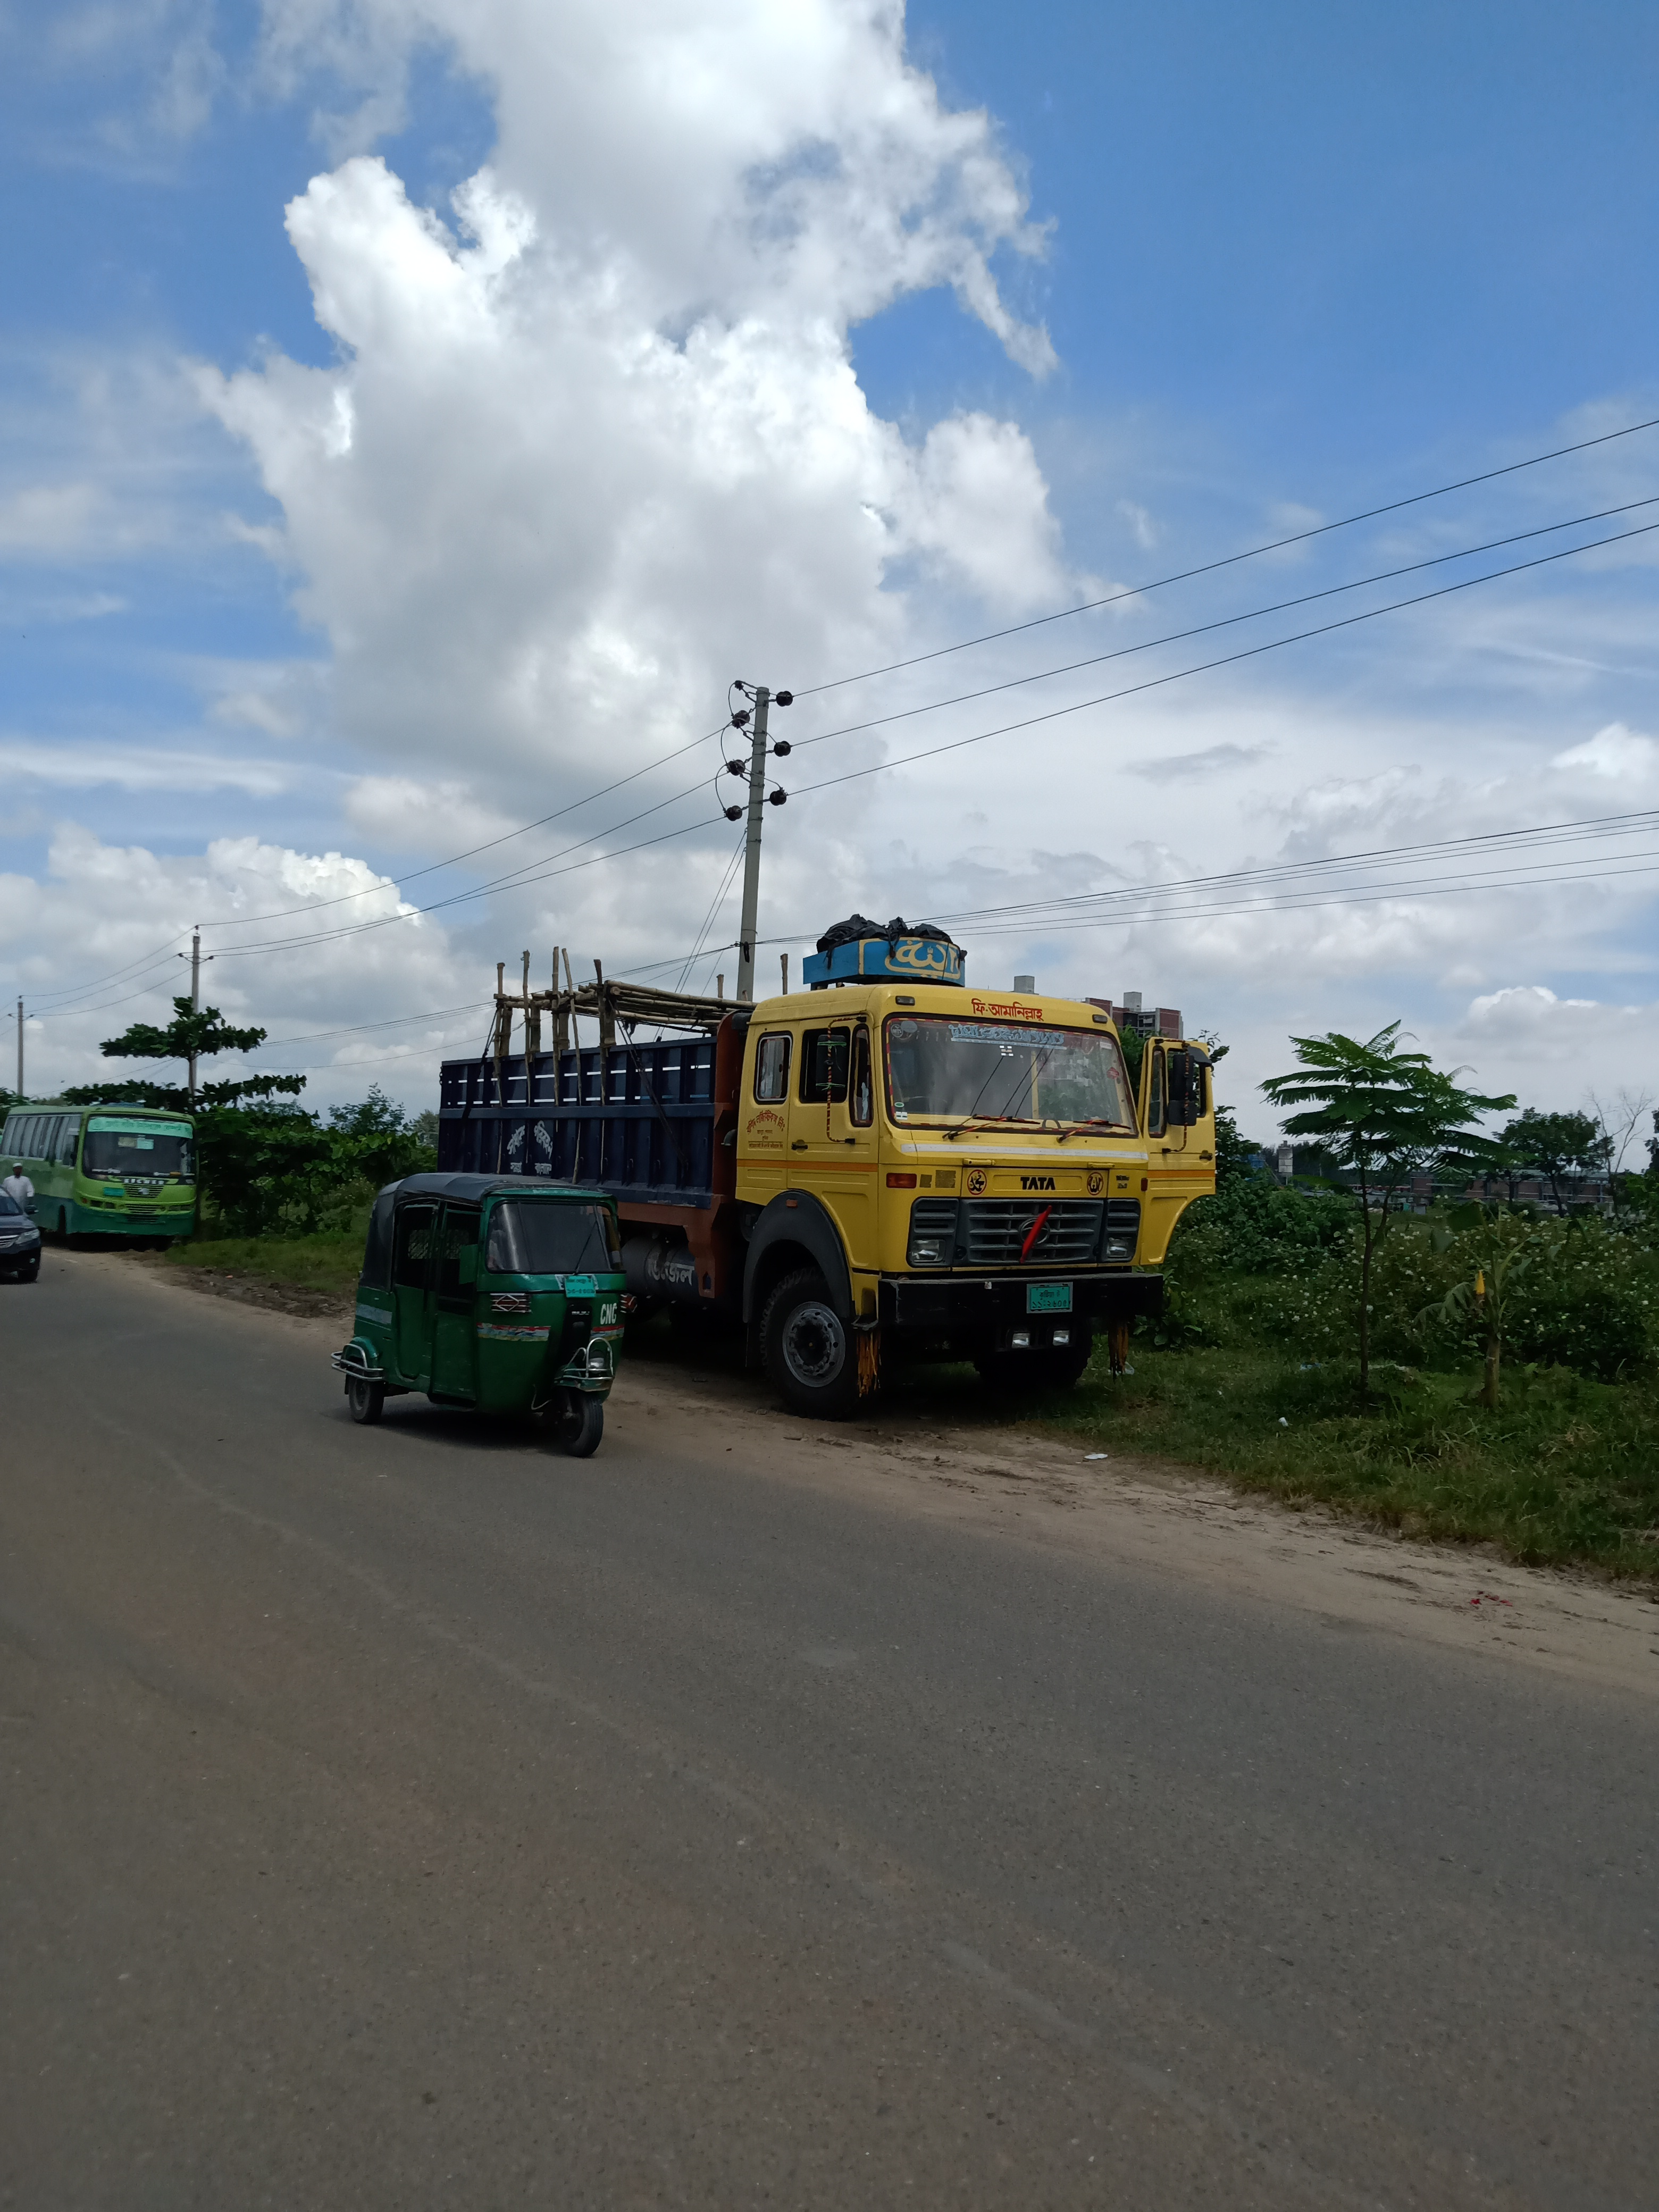bus: (0, 1101, 199, 1256)
car: (0, 1190, 38, 1287)
cng: (326, 1169, 641, 1451)
truck: (443, 937, 1220, 1413)
